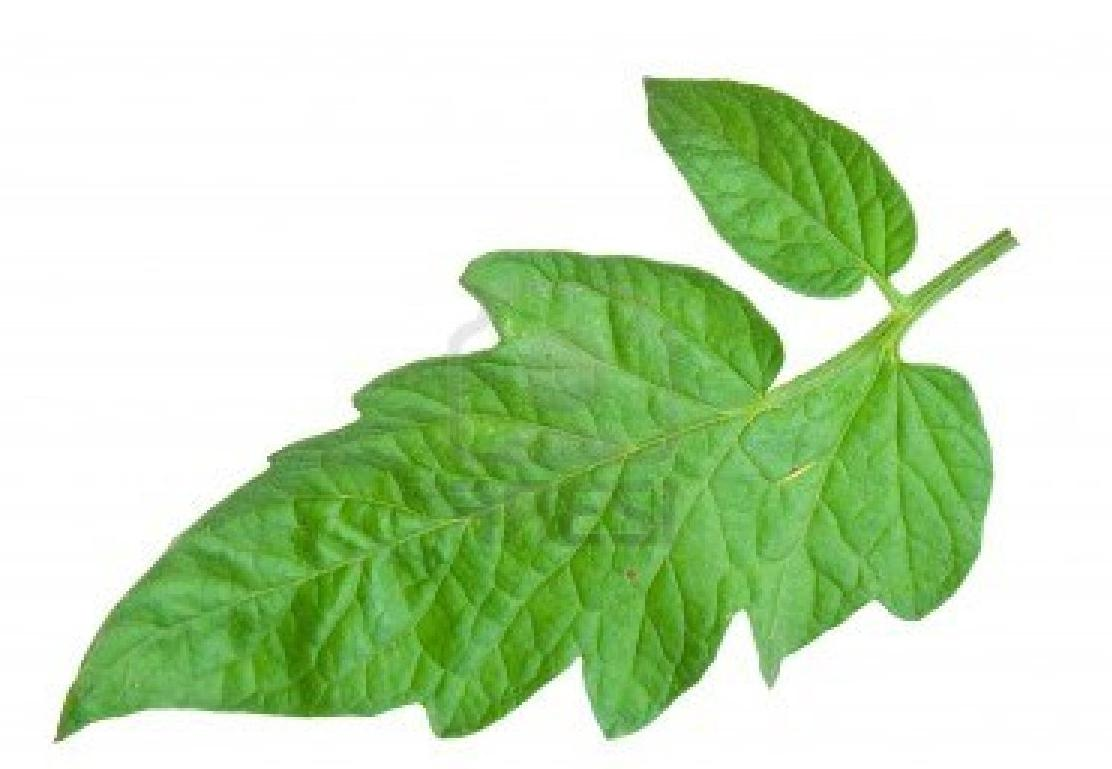Tomato leaf: (7, 245, 1047, 769), (601, 42, 920, 299)
